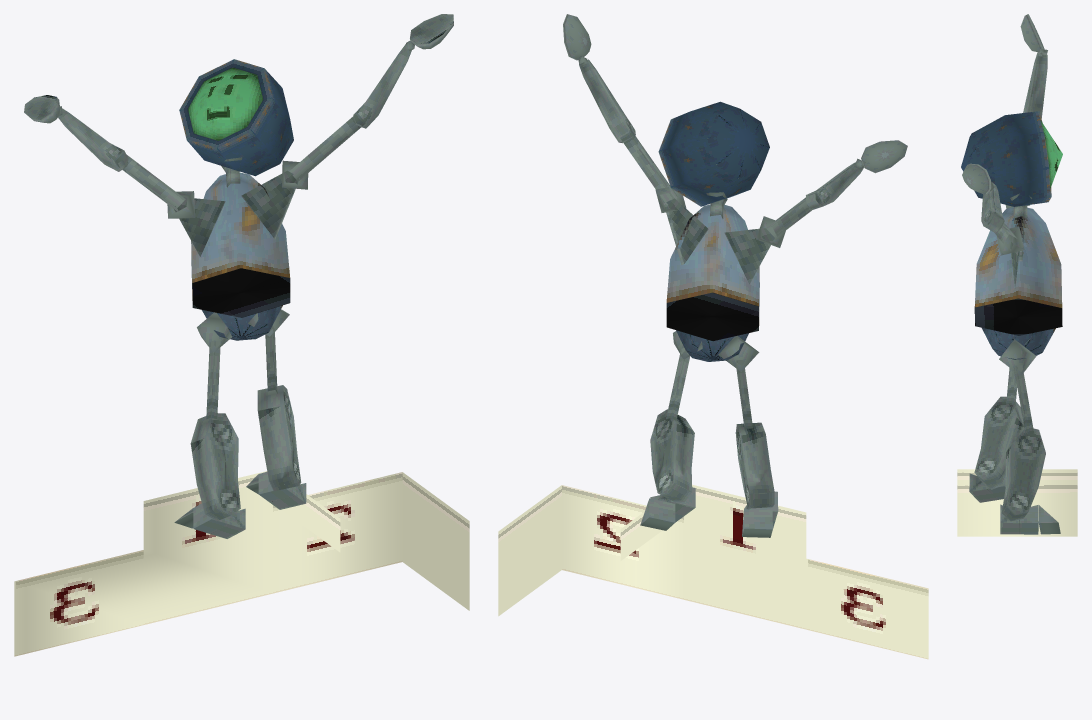
Rendered from ps2_save-icons_thrillvilleofftherails-systemdata.glb.
3 renders of one model, left to right at view 1: azimuth 30°, elevation 25°; view 2: azimuth 150°, elevation 25°; view 3: azimuth 270°, elevation 25°, orthographic. The views are drawn at different scales.
Parts seen in each view (by area): view 1: ucp.ico; view 2: ucp.ico; view 3: ucp.ico.
Boxes of the visible parts, x1,y1,x2,y2 form: ucp.ico: [14, 14, 469, 656]; ucp.ico: [498, 14, 928, 659]; ucp.ico: [957, 14, 1077, 536].
Size of the model in its own units: 3.49 by 4.92 by 1.
1 material, 1 textured.
